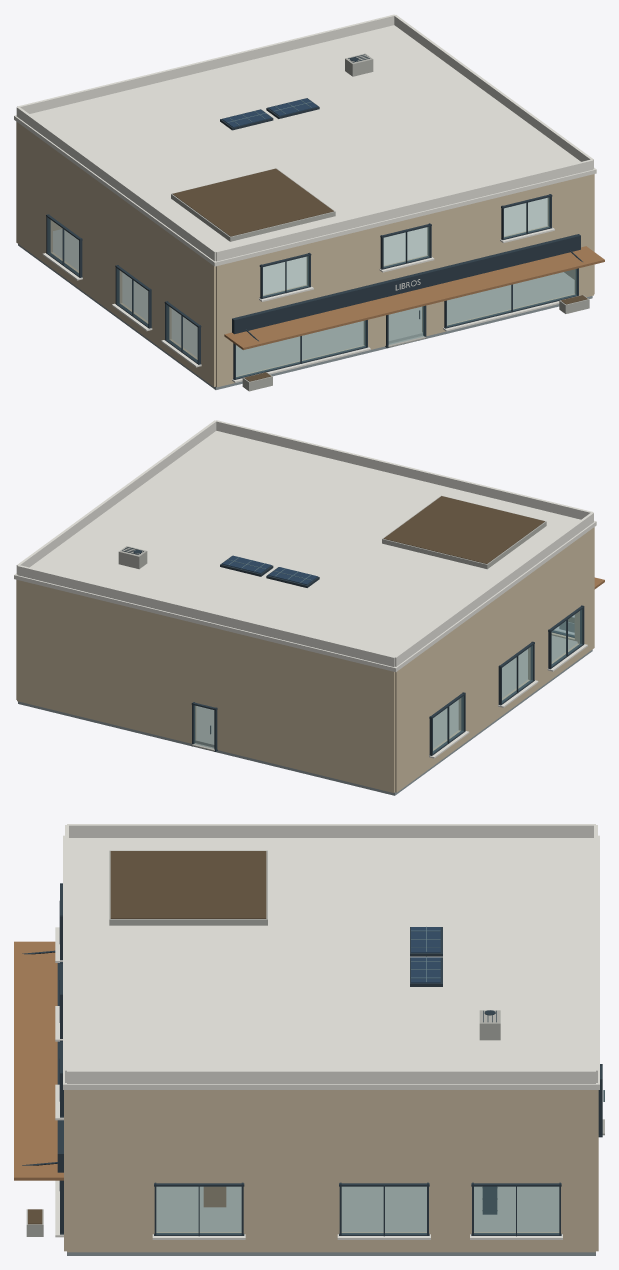
Rendered from Shop_5.fbx.
The picture shows the model from 3 angles, top to bottom: view 1: azimuth 30°, elevation 25°; view 2: azimuth 150°, elevation 25°; view 3: azimuth 270°, elevation 25°; orthographic projection. The views are drawn at different scales.
Visible parts, largest first — view 1: Shop_5.059; view 2: Shop_5.059; view 3: Shop_5.059.
Boxes of the visible parts, <box> form: Shop_5.059: <box>14,14,604,391</box>; Shop_5.059: <box>14,420,604,795</box>; Shop_5.059: <box>14,824,604,1255</box>.
Bounding box in the file's own units: 22.87 × 7.97 × 22.35.
